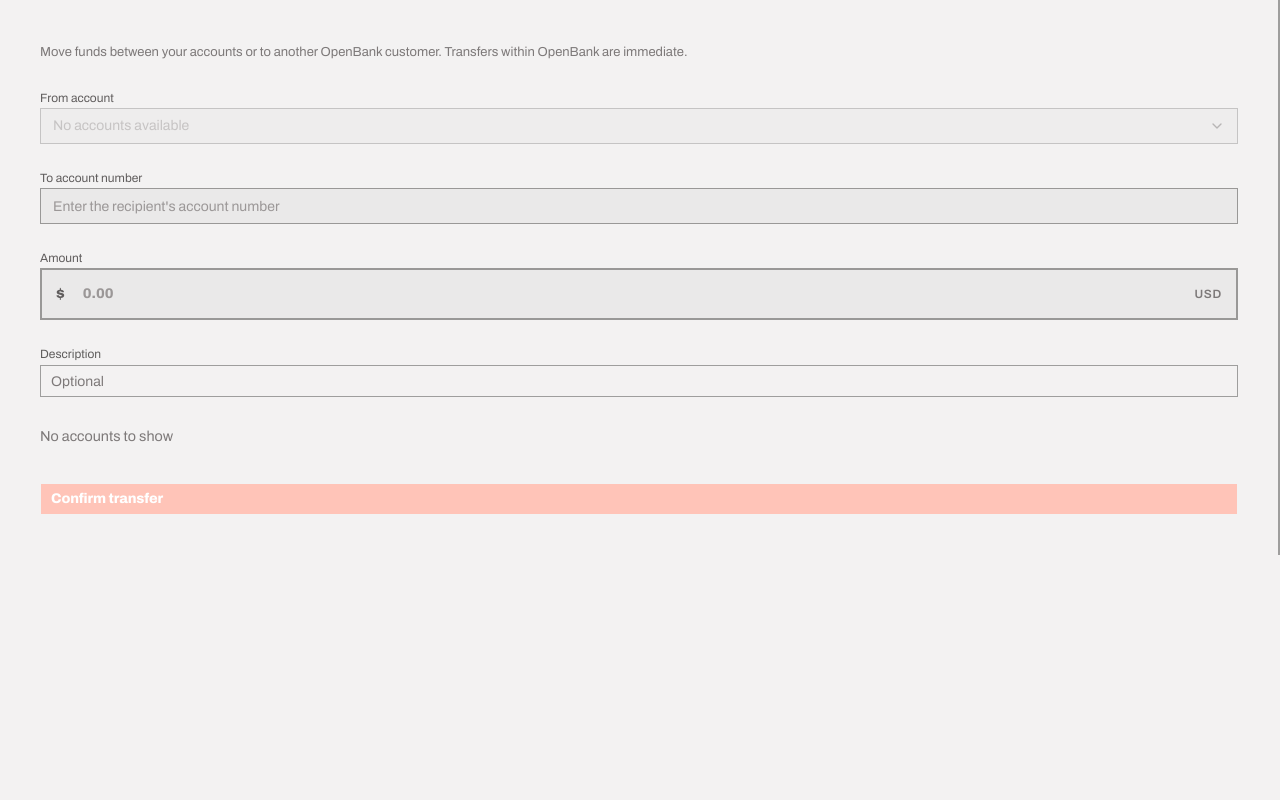
TransferPanel integration › Confirm button stays disabled when no accounts available
Expected: the button "Confirm transfer" is disabled, [40,483,1238,515]
Note: even with recipient and amount, still disabled because no accounts
In the field with placeholder "Enter the recipient's account number": (639, 206) [40,188,1238,224], type "7723490011"
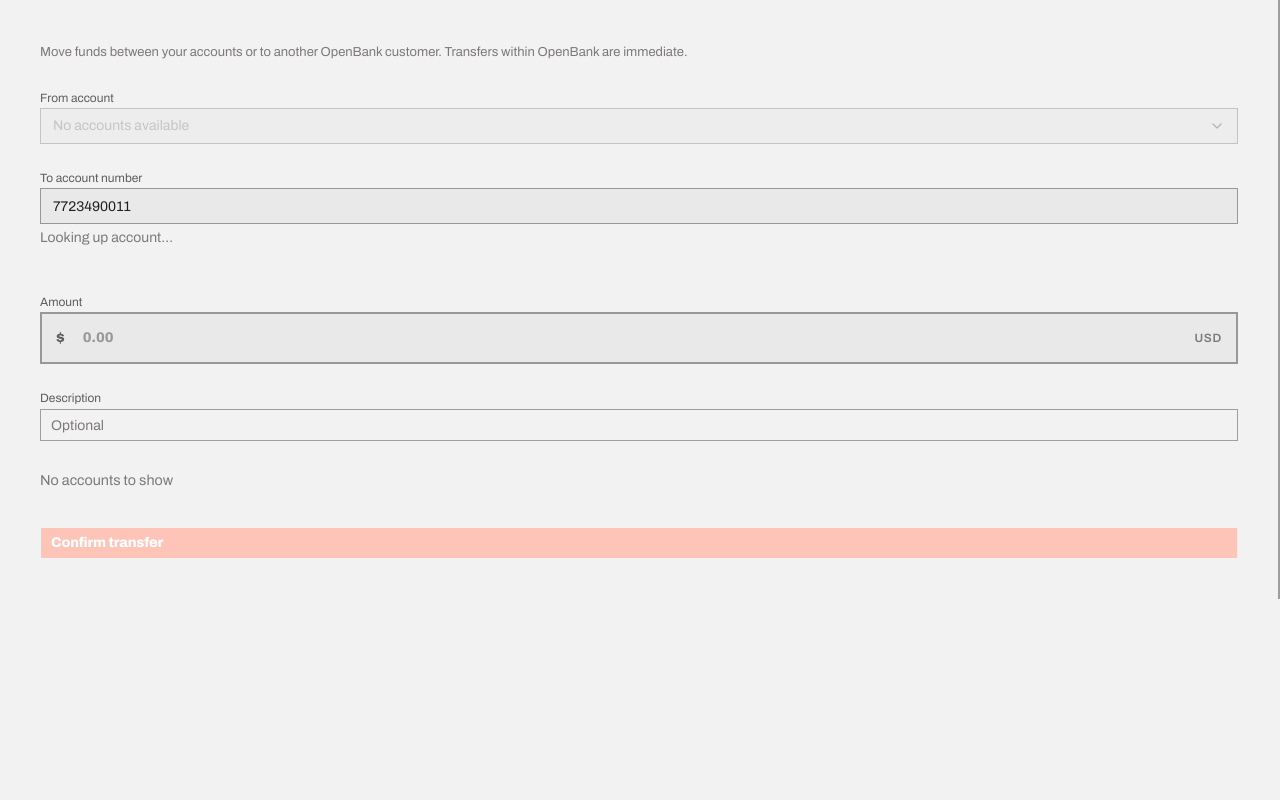
In the field with placeholder "0.00": (630, 338) [73,314,1186,362], type "10.00"
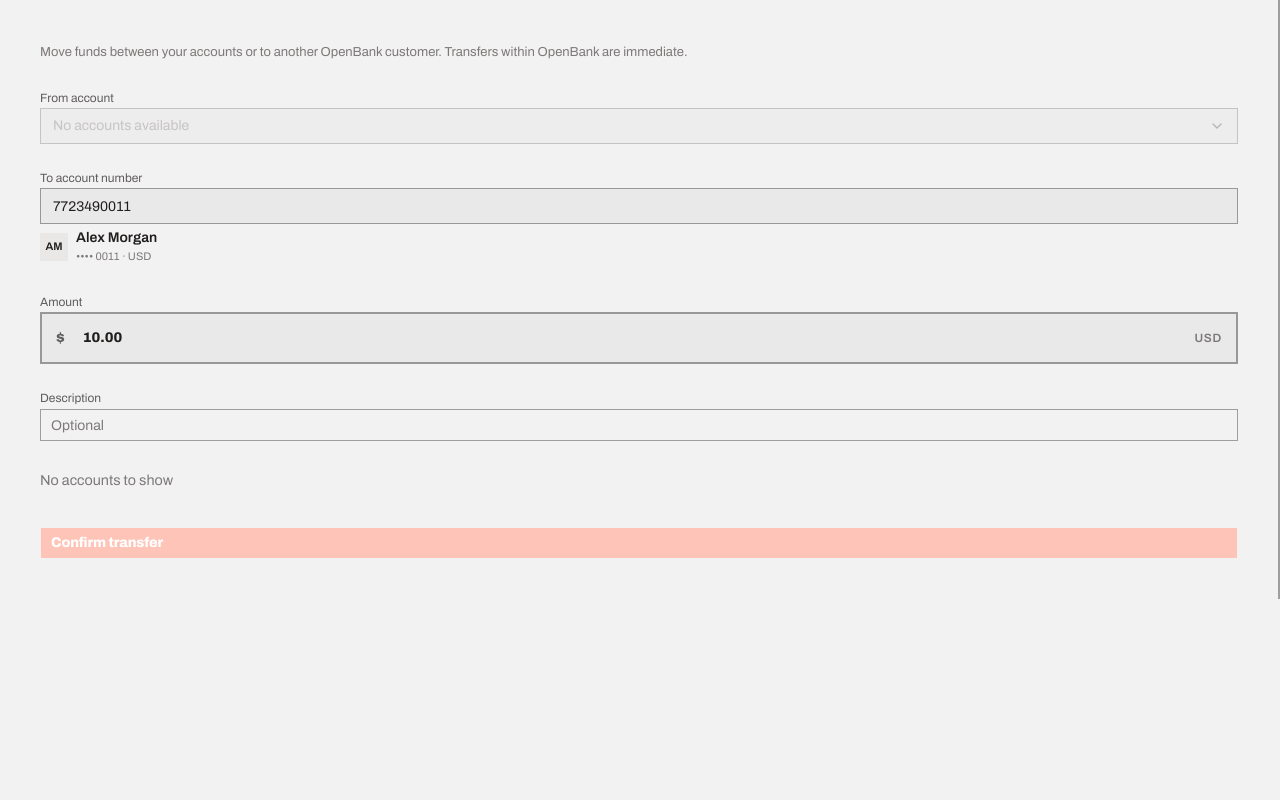
Expected: the button "Confirm transfer" is disabled, [40,527,1238,559]
Now the text "Alex Morgan" is shown, box [76,228,157,248]
